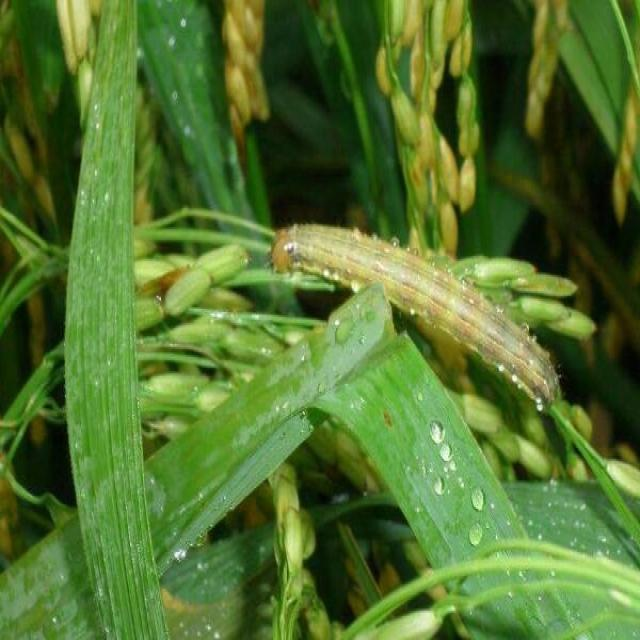army worm: (269, 211, 567, 416)
